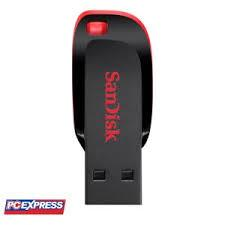Flash-drive: (63, 7, 162, 207)
